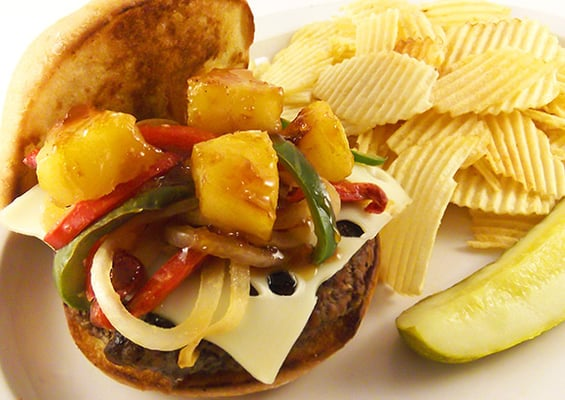pasta: (394, 194, 565, 364)
